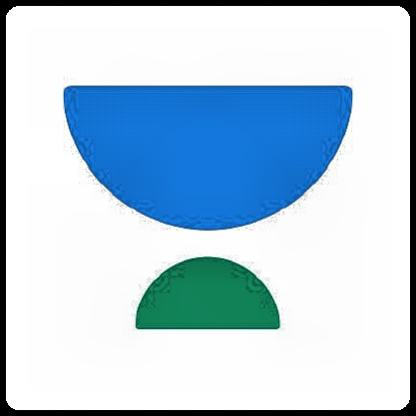Unacademy: (57, 79, 357, 343)
